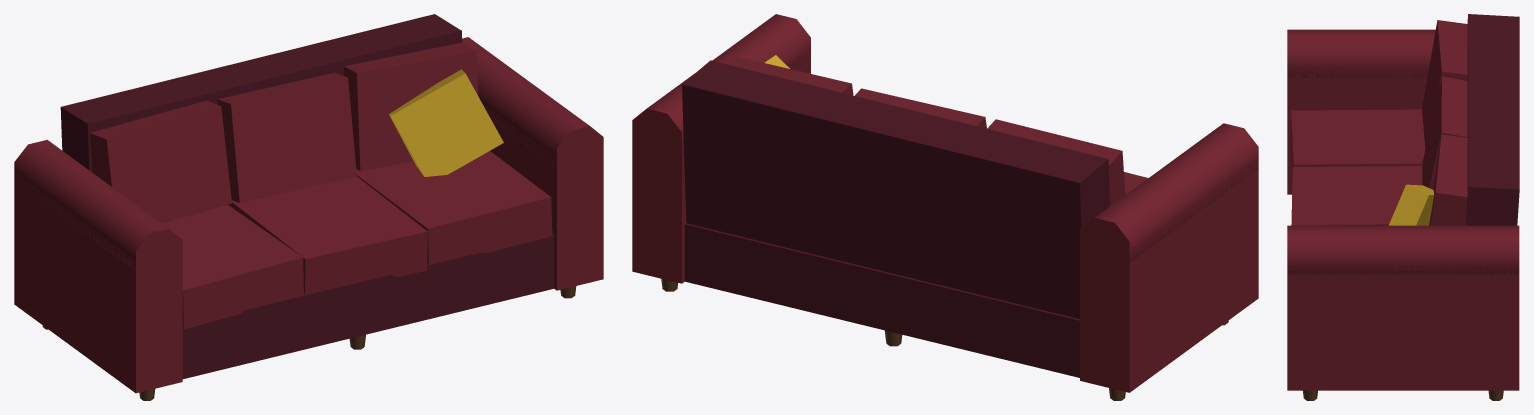
File: Bank.glb
3 views of the same model, side by side, from view 1: azimuth 30°, elevation 25°; view 2: azimuth 150°, elevation 25°; view 3: azimuth 270°, elevation 25° (orthographic). The views are drawn at different scales.
Parts seen in each view (by area): view 1: Upholstery, Frame, ThrowCushion, FeetMerged; view 2: Frame, Upholstery, FeetMerged; view 3: Upholstery, Frame, ThrowCushion, FeetMerged.
Part boxes in pixels (x1=…): Upholstery: x1=14, y1=37, x2=603, y2=393; Frame: x1=60, y1=14, x2=554, y2=379; ThrowCushion: x1=389, y1=69, x2=503, y2=176; FeetMerged: x1=42, y1=286, x2=576, y2=400; Frame: x1=682, y1=60, x2=1109, y2=377; Upholstery: x1=632, y1=14, x2=1258, y2=392; FeetMerged: x1=661, y1=279, x2=1228, y2=400; Upholstery: x1=1287, y1=20, x2=1519, y2=390; Frame: x1=1292, y1=14, x2=1519, y2=225; ThrowCushion: x1=1388, y1=184, x2=1434, y2=225; FeetMerged: x1=1303, y1=390, x2=1503, y2=400.
Bounding box in the file's own units: 2 × 0.8587 × 0.9015.
